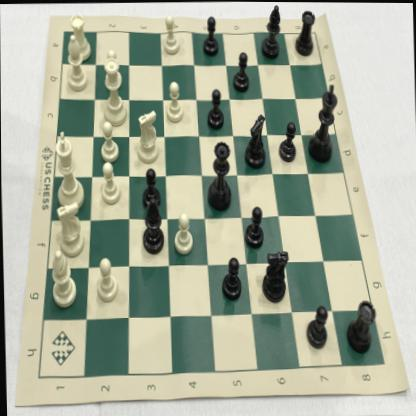black-bishop: (140, 195, 165, 254), (258, 2, 283, 60)
black-king: (306, 81, 339, 162)
black-knight: (260, 248, 290, 304), (244, 113, 267, 169)
black-pawn: (302, 304, 329, 350), (217, 255, 242, 302), (243, 203, 264, 250), (276, 120, 298, 163), (141, 166, 161, 211), (204, 87, 224, 130), (230, 50, 250, 92), (203, 14, 219, 57)
black-queen: (204, 137, 233, 211)
black-rook: (343, 296, 377, 355), (293, 8, 317, 57)
white-bishop: (47, 249, 77, 307), (64, 33, 88, 93)
white-king: (53, 129, 84, 211)
white-knight: (54, 201, 84, 257), (134, 110, 160, 164)
white-pawn: (93, 256, 118, 305), (98, 160, 121, 205), (98, 118, 120, 161), (173, 210, 194, 255), (164, 78, 184, 124), (162, 13, 181, 56), (103, 48, 122, 87)
white-queen: (97, 57, 129, 127)
white-rook: (69, 10, 91, 61)
